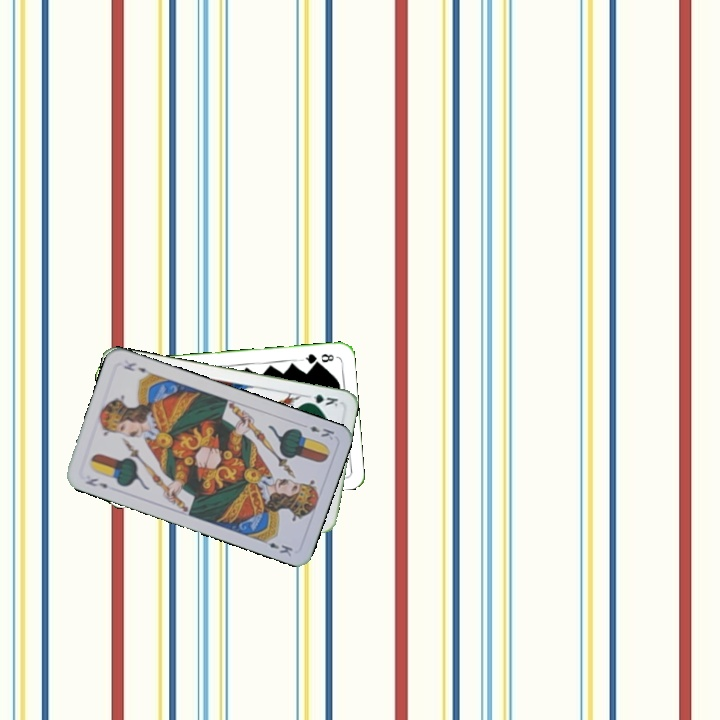EK: (305, 422, 337, 443), (81, 474, 110, 491)
G8: (298, 349, 337, 366)
GK: (301, 390, 341, 409)
